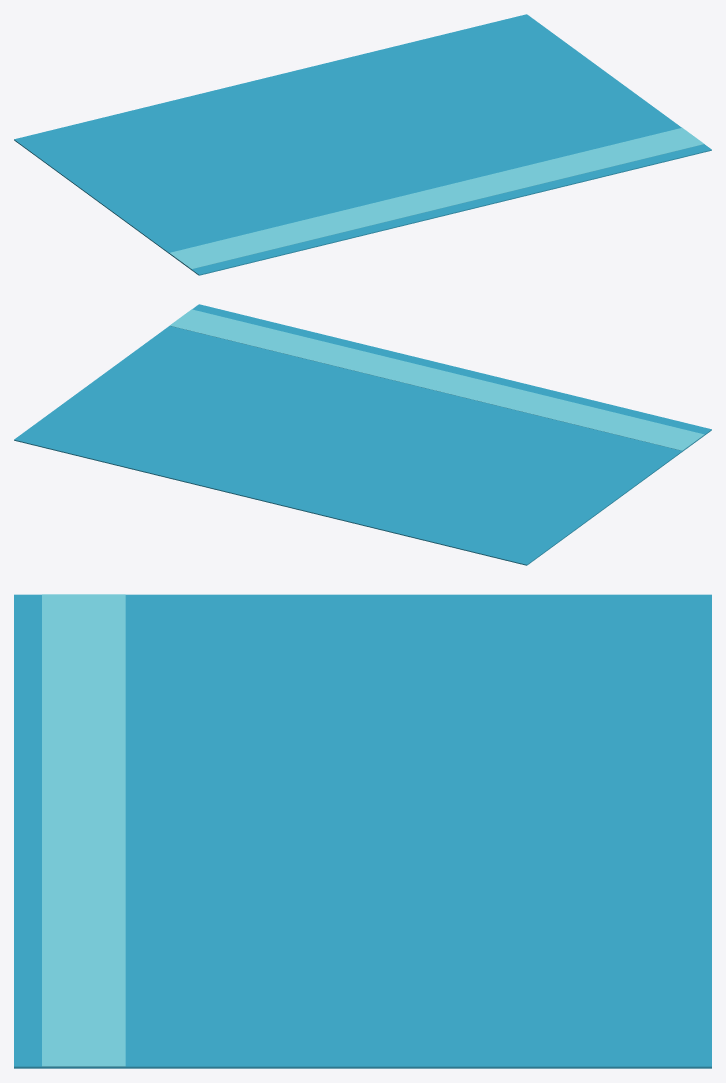
Rendered from Surfing_Water.fbx.
The picture shows the model from 3 angles, top to bottom: view 1: azimuth 30°, elevation 25°; view 2: azimuth 150°, elevation 25°; view 3: azimuth 270°, elevation 25°; orthographic projection. The views are drawn at different scales.
Visible parts, largest first — view 1: Water; view 2: Water; view 3: Water.
Part boxes in pixels (x1,y1,x2,y2): Water: (14,14,711,275); Water: (14,304,711,565); Water: (14,594,711,1068).
Bounding box in the file's own units: 160 × 0.38 × 100.
